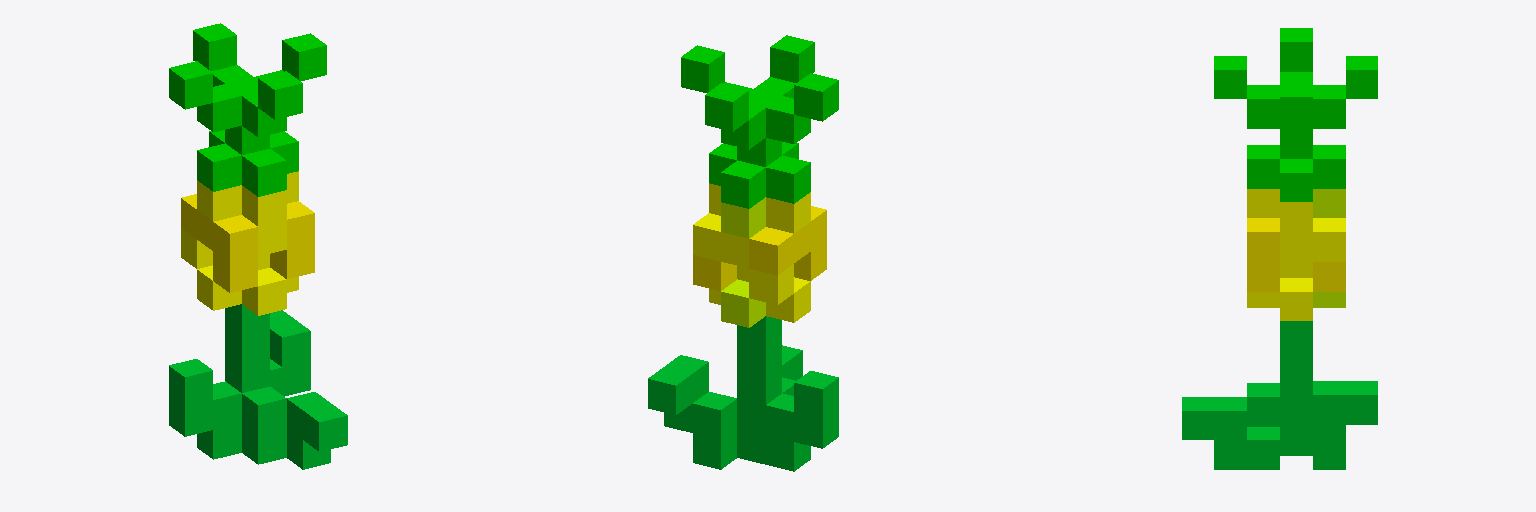
3 views of the same model, side by side, from view 1: azimuth 30°, elevation 25°; view 2: azimuth 150°, elevation 25°; view 3: azimuth 270°, elevation 25° (orthographic).
Visible parts, largest first — view 1: object 1; view 2: object 1; view 3: object 1.
Boxes of the visible parts, <box> form: object 1: <box>169,23,347,469</box>; object 1: <box>648,35,838,471</box>; object 1: <box>1182,28,1377,469</box>.
Bounding box in the file's own units: 0.5 × 1.3 × 0.6.
Materials: 1 (1 with a texture image).